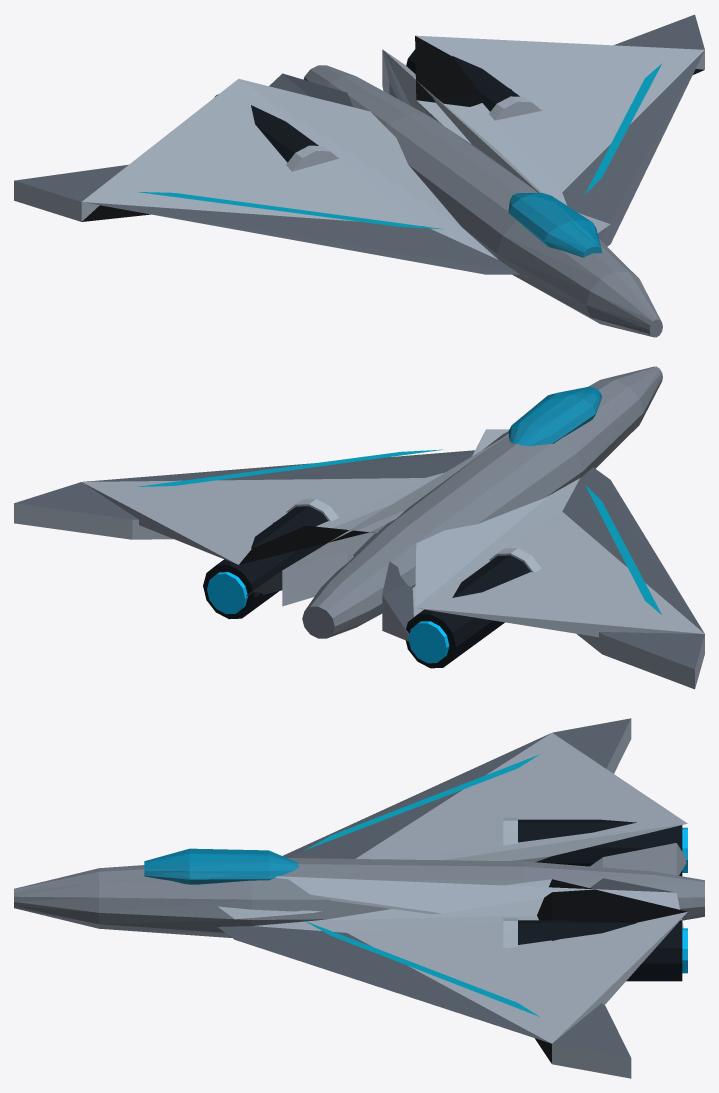
The model's file is astro_survivor_ship.obj.
3 renders of one model, top to bottom at view 1: azimuth 30°, elevation 25°; view 2: azimuth 150°, elevation 25°; view 3: azimuth 270°, elevation 25°, orthographic. The views are drawn at different scales.
Visible parts, largest first — view 1: AstroSurvivor_Fighter; view 2: AstroSurvivor_Fighter; view 3: AstroSurvivor_Fighter.
Boxes of the visible parts, bbox=[...] form: AstroSurvivor_Fighter: bbox=[14, 14, 704, 337]; AstroSurvivor_Fighter: bbox=[14, 366, 704, 689]; AstroSurvivor_Fighter: bbox=[14, 718, 704, 1078].
Bounding box in the file's own units: 7.1 × 0.78 × 6.1.
